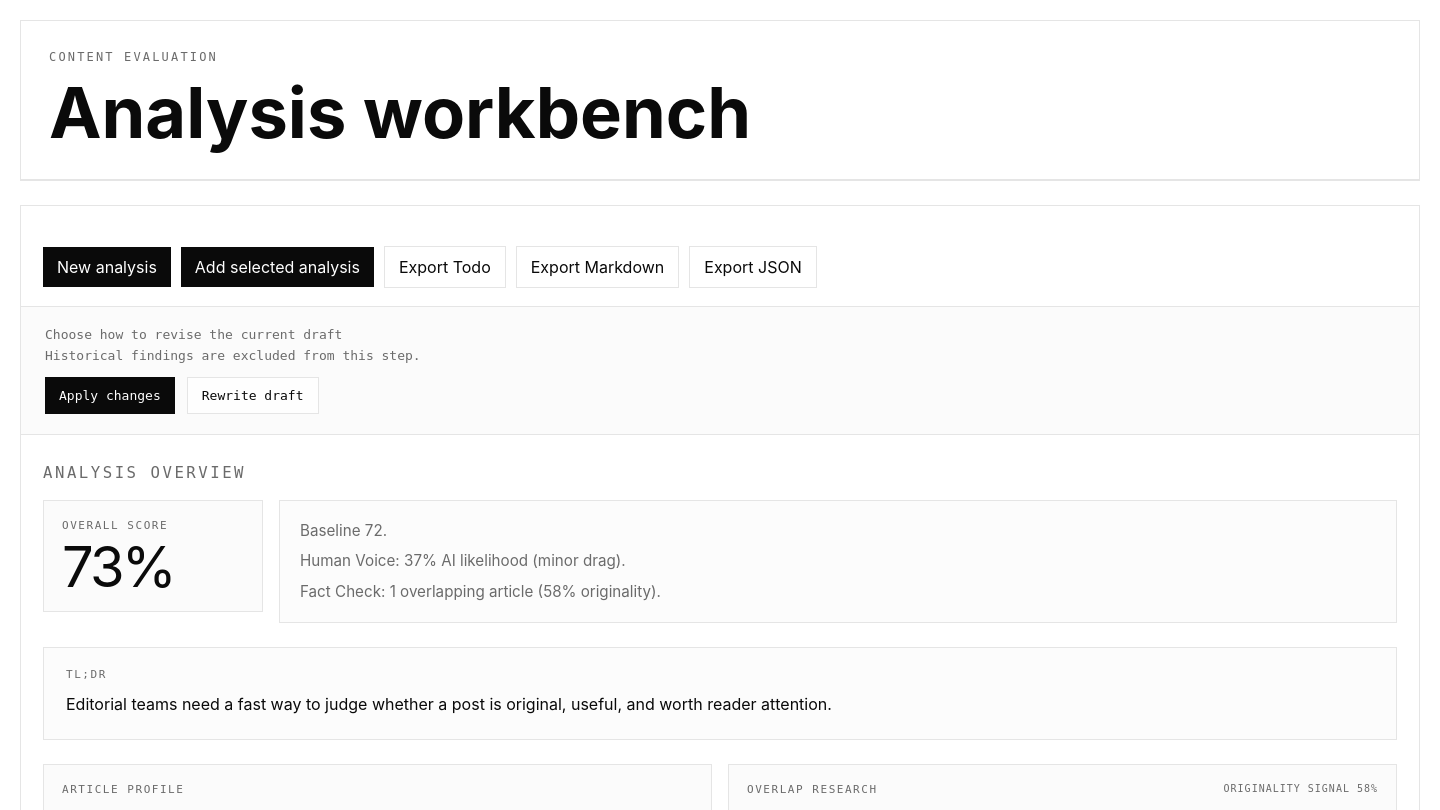
Test: ReviewWorkbench › shows a local error near the analyze button when append-agent fails
Step 1. Click the button with test id "analyze-button" → coordinates (277, 267), box [181,247,374,287]
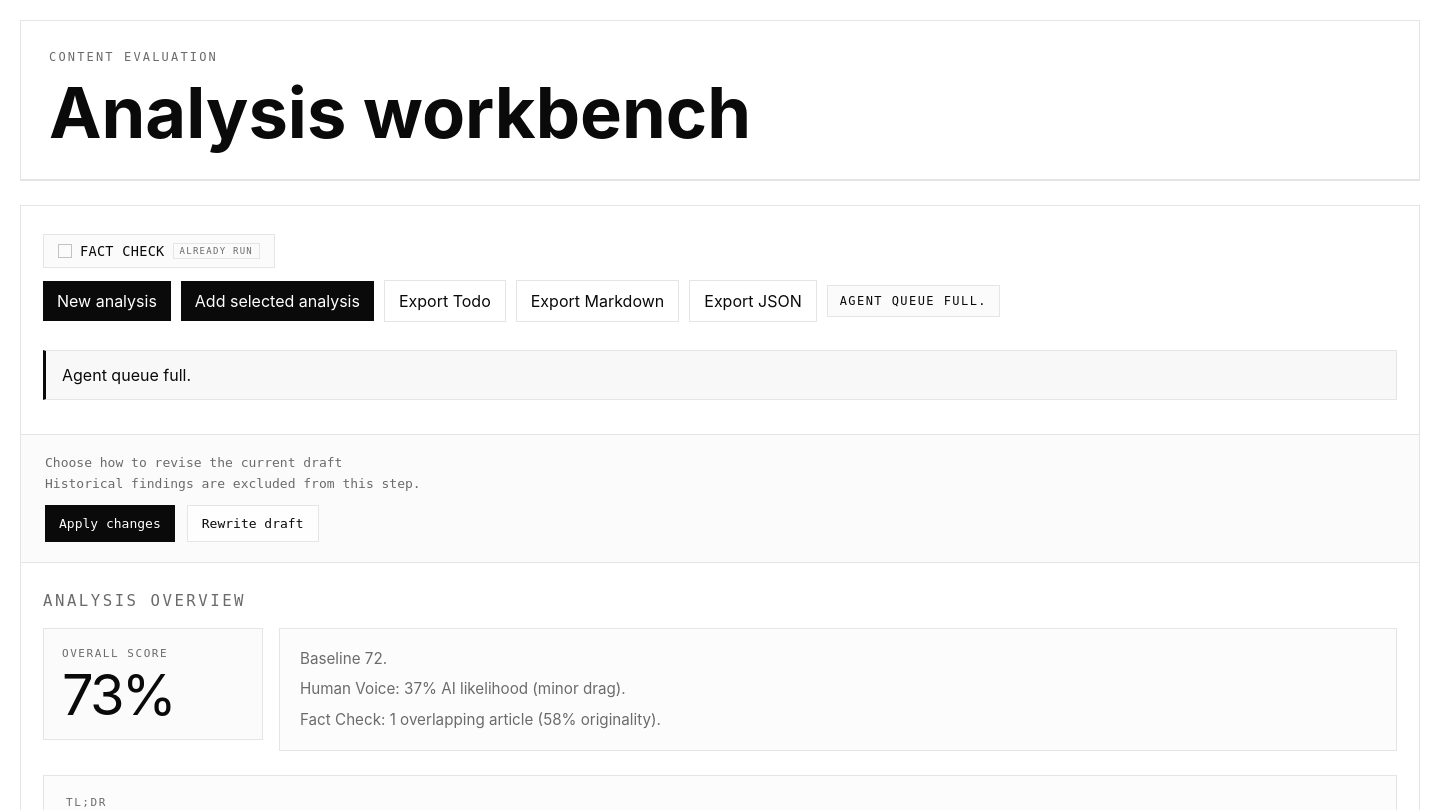
Result: the message with test id "submit-local-error" reads "Agent queue full." at [62,365,191,385]
